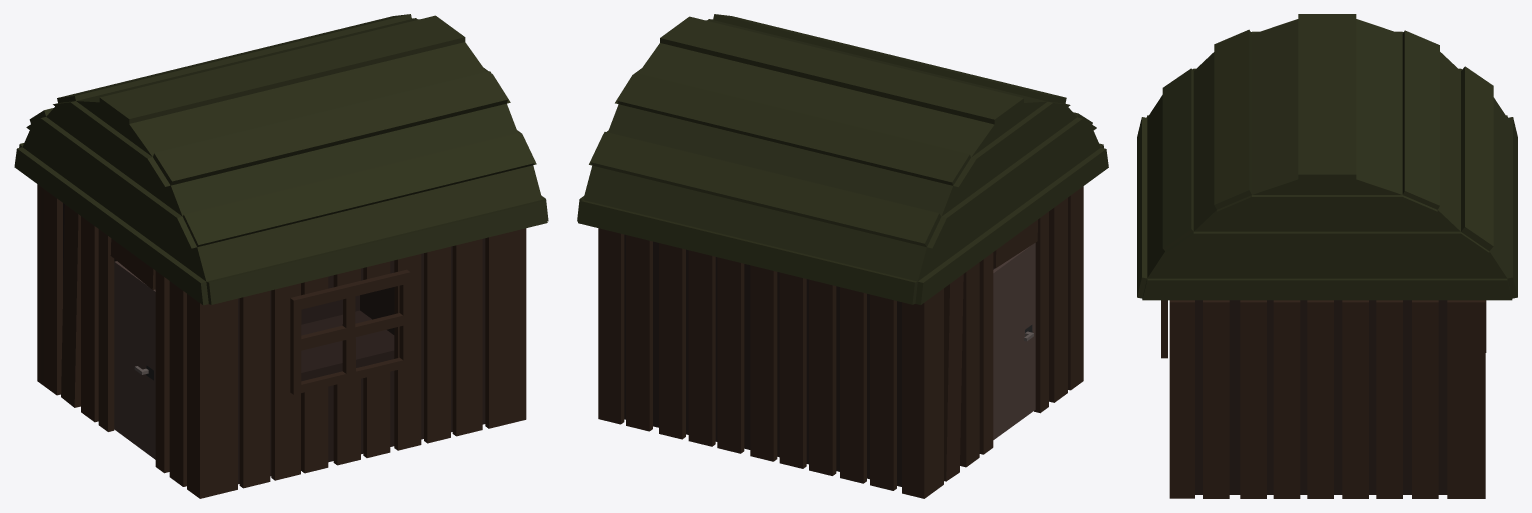
File: Model_barak.fbx
The picture shows the model from 3 angles, left to right: view 1: azimuth 30°, elevation 25°; view 2: azimuth 150°, elevation 25°; view 3: azimuth 270°, elevation 25°; orthographic projection. The views are drawn at different scales.
Parts seen in each view (by area): view 1: Mesh_barak; view 2: Mesh_barak; view 3: Mesh_barak.
Part boxes in pixels (bbox=[...]): Mesh_barak: bbox=[14, 14, 548, 498]; Mesh_barak: bbox=[577, 14, 1108, 498]; Mesh_barak: bbox=[1137, 14, 1517, 498].
Bounding box in the file's own units: 393 × 373 × 404.
